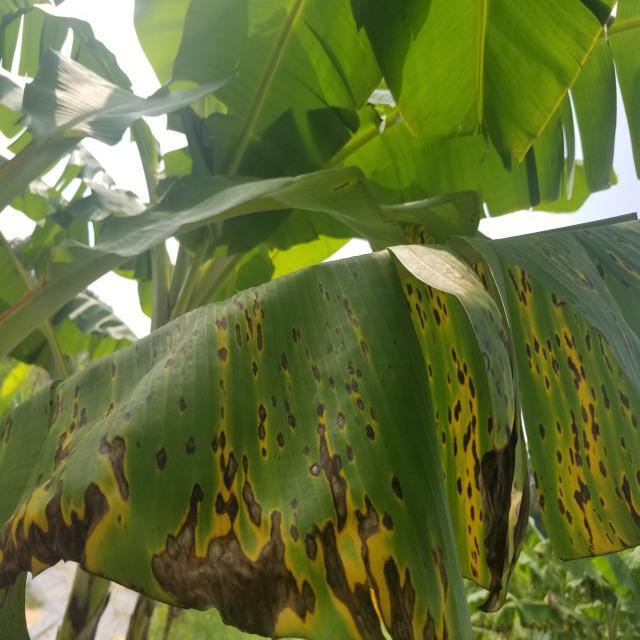Early_rust: (0, 220, 640, 620)
